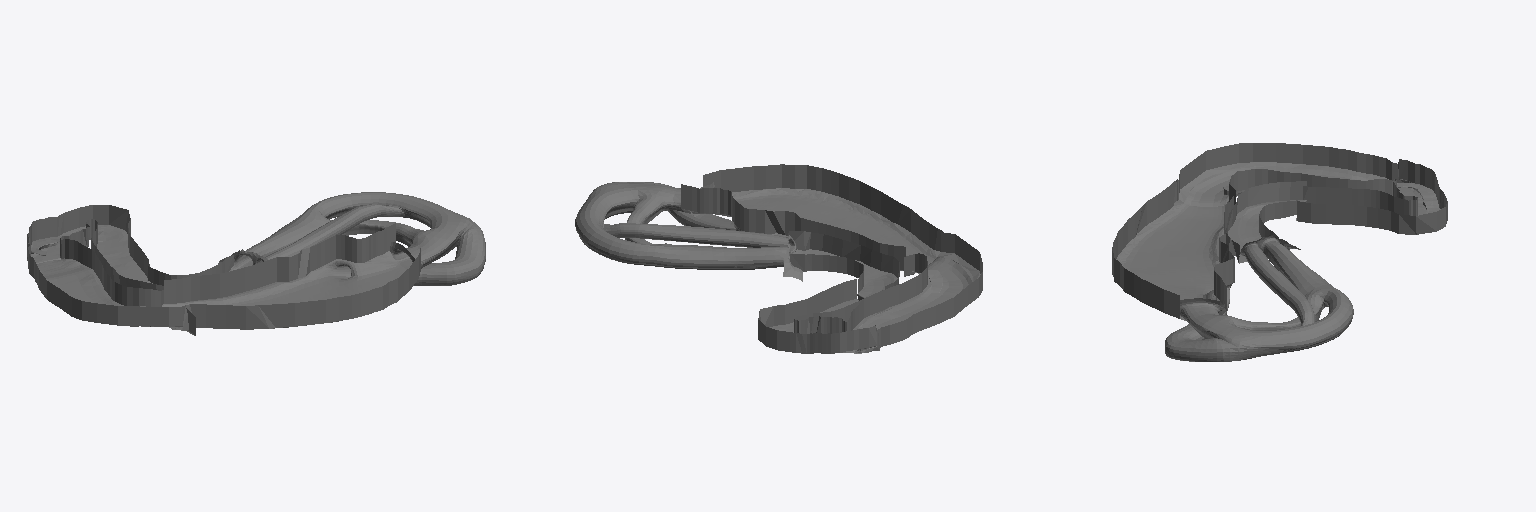
File: terrain_collider_v3.obj
The picture shows the model from 3 angles: view 1: azimuth 30°, elevation 25°; view 2: azimuth 150°, elevation 25°; view 3: azimuth 270°, elevation 25°; orthographic projection.
Visible parts, largest first — view 1: scene_02 desert_03, scene_02 half_pipe_02, scene_02 start39, finish_part_01 scene_02; view 2: scene_02 desert_03, scene_02 half_pipe_02, scene_02 start39, finish_part_01 scene_02; view 3: scene_02 desert_03, scene_02 half_pipe_02, scene_02 start39, finish_part_01 scene_02.
Boxes of the visible parts, box(x1,y1,x2,y2) form: scene_02 desert_03: box(162, 192, 485, 330); scene_02 half_pipe_02: box(28, 239, 195, 335); scene_02 start39: box(27, 205, 149, 280); finish_part_01 scene_02: box(112, 255, 233, 290); scene_02 desert_03: box(575, 164, 943, 281); scene_02 half_pipe_02: box(848, 232, 982, 347); scene_02 start39: box(758, 279, 882, 353); finish_part_01 scene_02: box(788, 231, 899, 300); scene_02 desert_03: box(1112, 179, 1353, 361); scene_02 half_pipe_02: box(1174, 143, 1398, 206); scene_02 start39: box(1296, 159, 1447, 234); finish_part_01 scene_02: box(1226, 181, 1306, 263).
Size of the model in its own units: 16977 by 2058 by 12460.